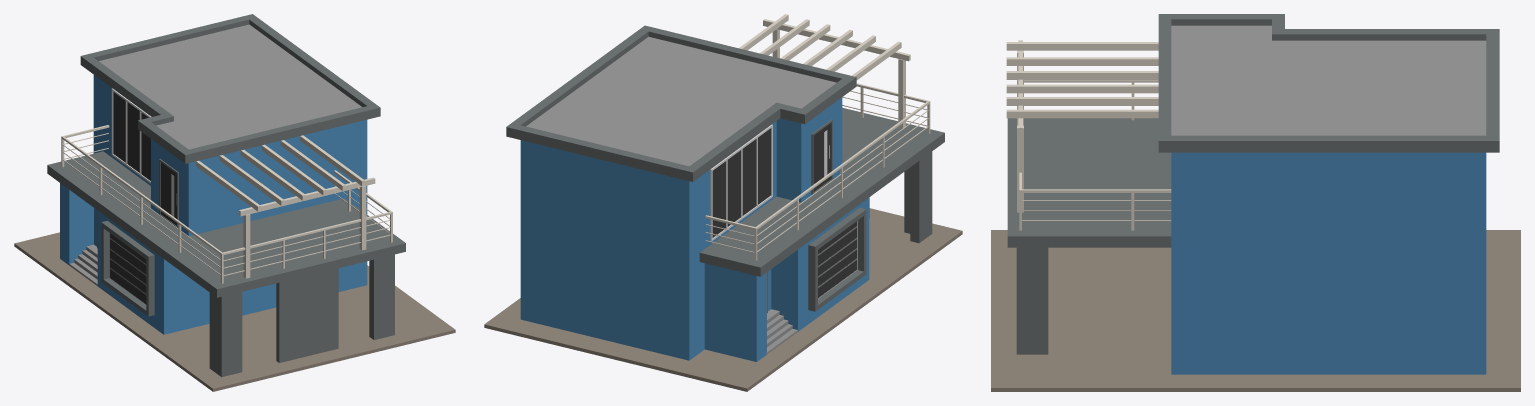
Rendered from building_0_1_2_1.glb.
3 renders of one model, left to right at view 1: azimuth 30°, elevation 25°; view 2: azimuth 150°, elevation 25°; view 3: azimuth 270°, elevation 25°, orthographic. The views are drawn at different scales.
Parts seen in each view (by area): view 1: building_0_1_2_1; view 2: building_0_1_2_1; view 3: building_0_1_2_1.
Boxes of the visible parts, x1,y1,x2,y2 form: building_0_1_2_1: (14,14,455,391); building_0_1_2_1: (484,14,962,391); building_0_1_2_1: (991,14,1520,391).
Size of the model in its own units: 12.6 by 9.05 by 17.89.
1 material, 1 textured.
